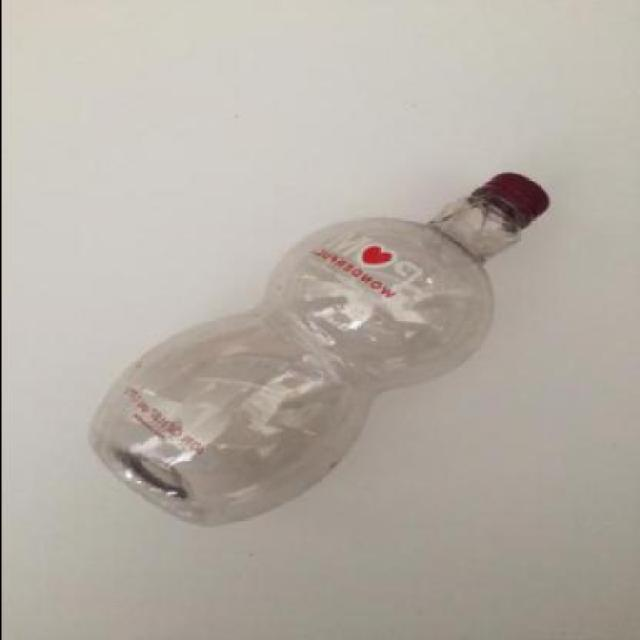PLASTIC: (83, 172, 551, 525), (470, 171, 547, 226)
